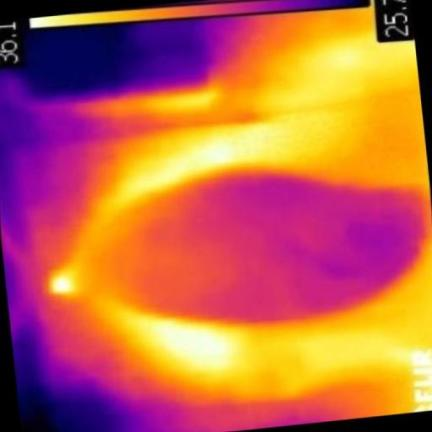mango: (86, 172, 425, 324)
